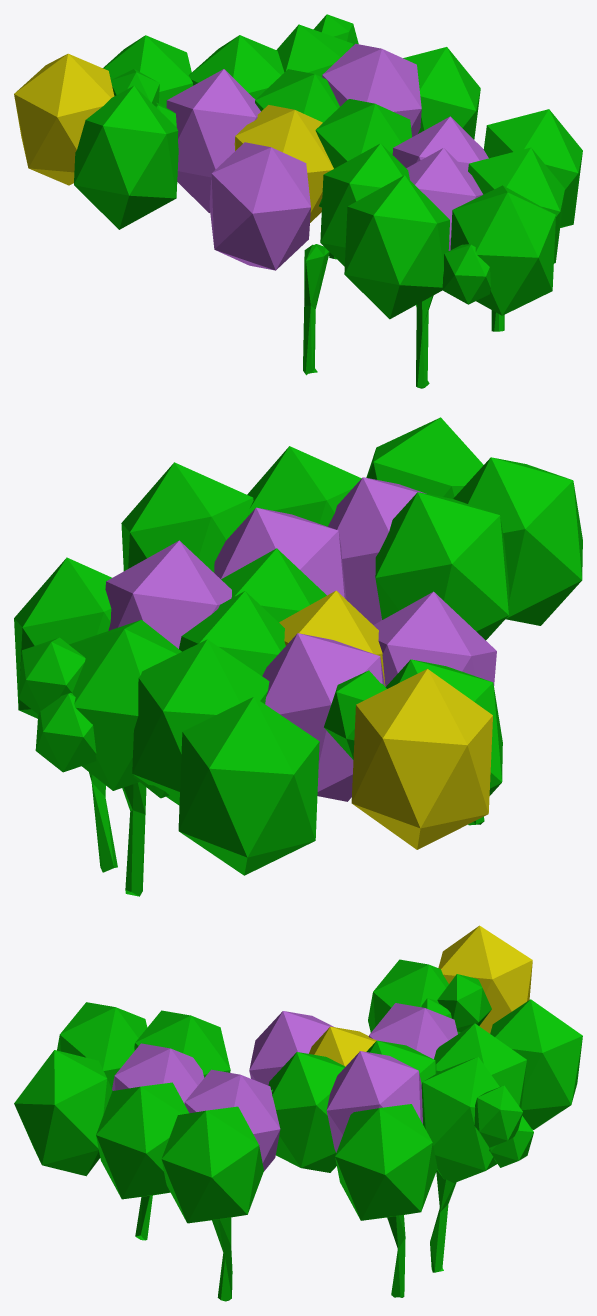
The model's file is treeCoral.fbx.
3 views of the same model, one above another, from view 1: azimuth 30°, elevation 25°; view 2: azimuth 150°, elevation 25°; view 3: azimuth 270°, elevation 25° (orthographic). The views are drawn at different scales.
Visible parts, largest first — view 1: 1treeCoral; view 2: 1treeCoral; view 3: 1treeCoral.
Part boxes in pixels (box(x1,y1,x2,y2)): 1treeCoral: box(14, 14, 582, 388); 1treeCoral: box(14, 417, 582, 896); 1treeCoral: box(14, 925, 582, 1301).
Bounding box in the file's own units: 9.75 × 5.69 × 12.2.
